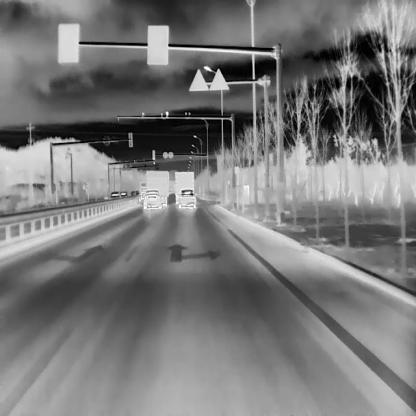car: (146, 171, 166, 205), (174, 171, 193, 204), (143, 189, 162, 208), (178, 188, 196, 208), (139, 181, 147, 203), (109, 191, 120, 198), (130, 189, 139, 197), (119, 190, 127, 197)
